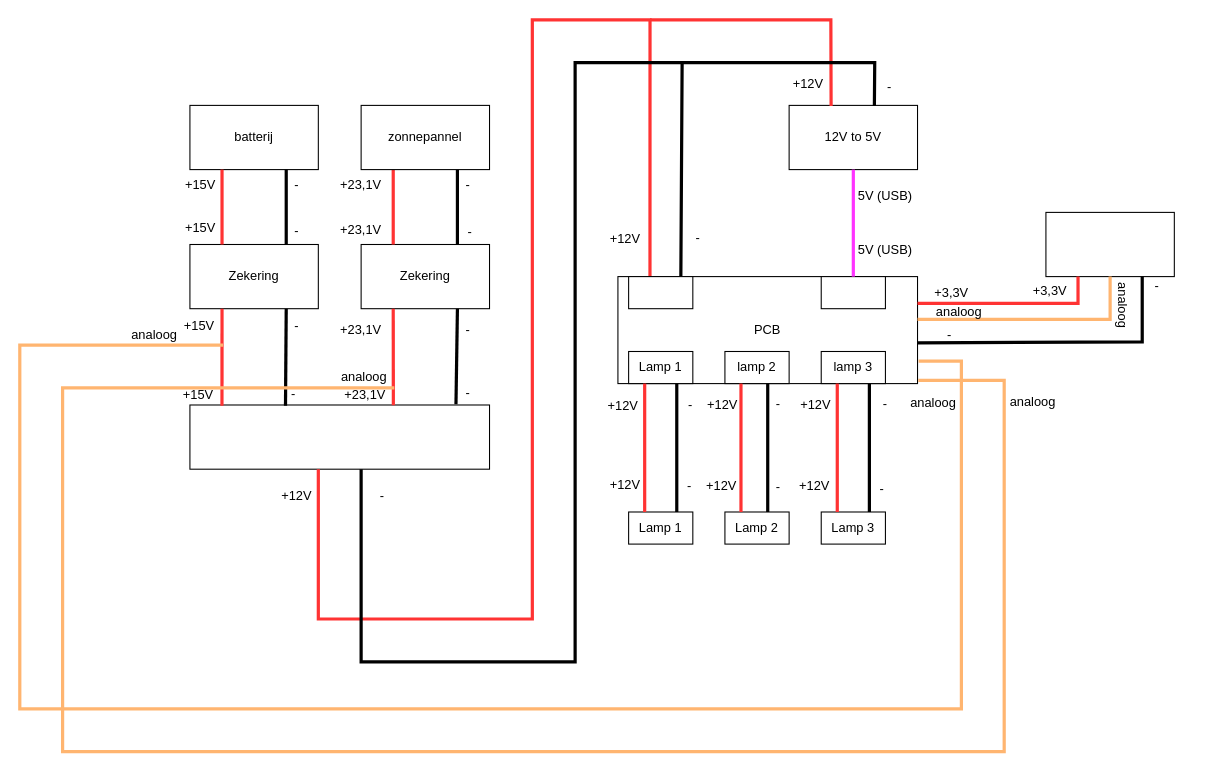
Image size: 1208x773. Some labels were removed from this diagram. The centre of each missing label's shape, as x and y in pixels:
"12V" goes at [660,292].
"lichtsensor" goes at [1109,244].
"regelaar" goes at [339,436].
"USB" goes at [852,292].
